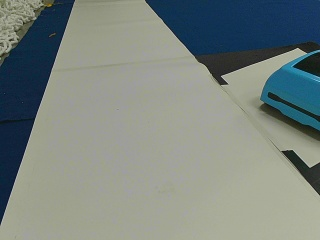car: (259, 45, 317, 131)
